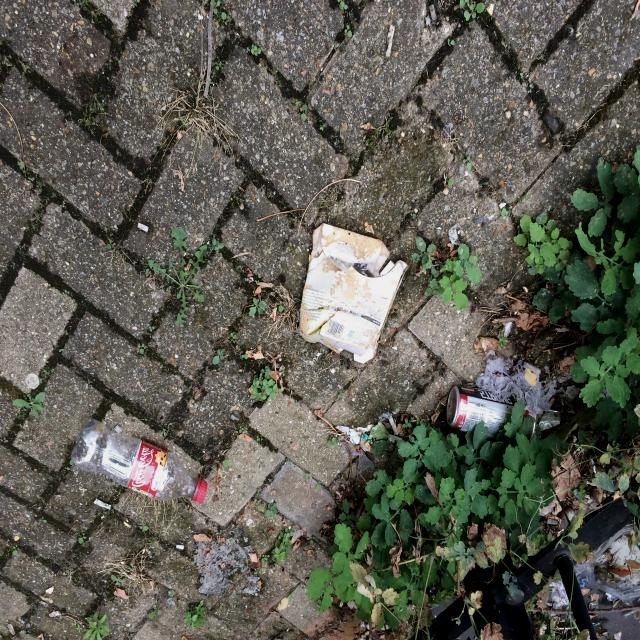Cigarette: (93, 499, 111, 510), (137, 223, 149, 232), (49, 611, 61, 618), (176, 545, 184, 550)
Clear plastic bottle: (71, 418, 208, 504)
Disposable food container: (585, 524, 640, 601)
Drink can: (447, 386, 536, 439)
Meal carton: (299, 223, 409, 364)
Normal paper: (476, 351, 557, 419)
Plastic bottle cap: (195, 479, 207, 504)
Unlabeled litter: (550, 580, 570, 610), (535, 410, 561, 432)
